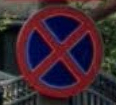oprirea_interzisa: (15, 4, 105, 98)
